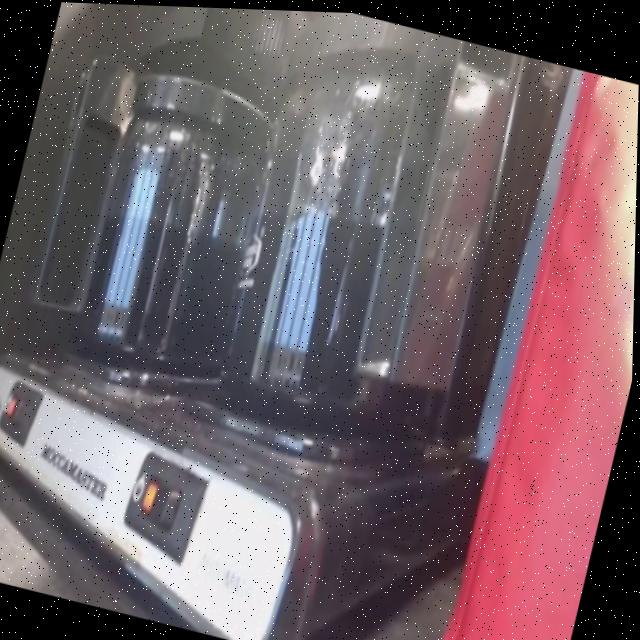coffee: (196, 6, 535, 473), (48, 37, 302, 407)
